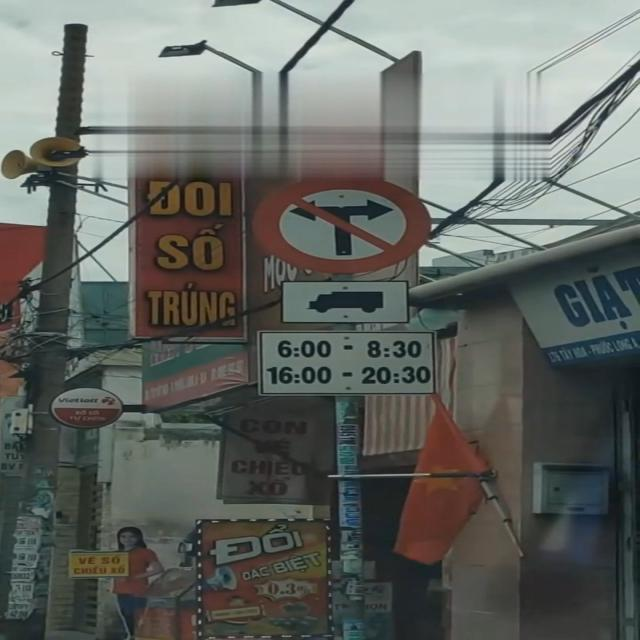137-cam-re-trai-va-re-phai: (249, 174, 431, 272)
